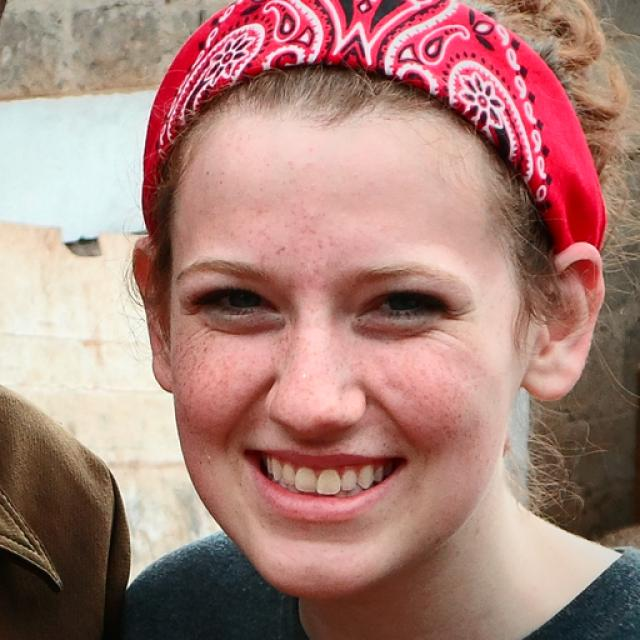Pigmentation: (169, 325, 257, 440), (260, 201, 343, 284), (390, 370, 467, 457)
